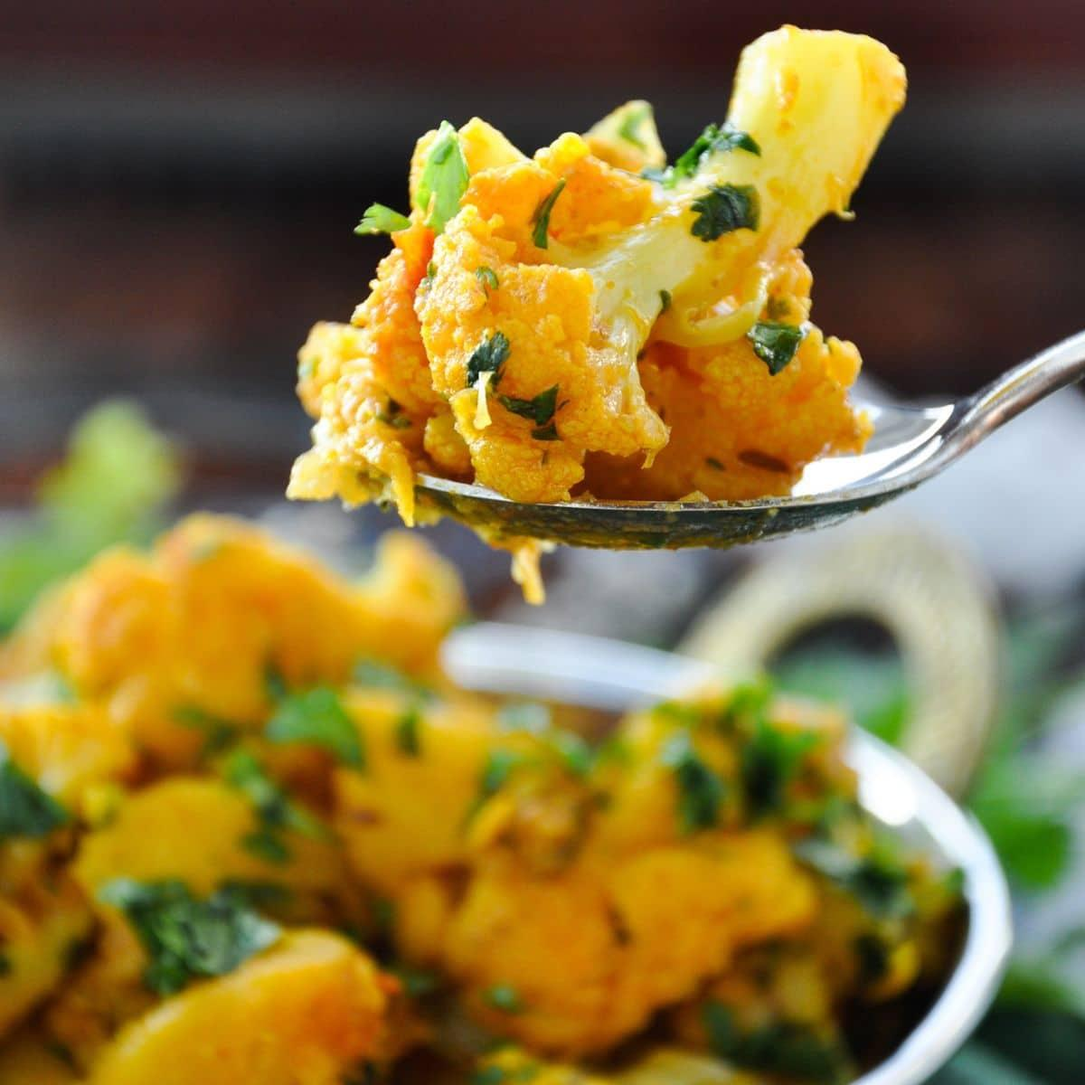aloo gobhi: (242, 43, 923, 539)
